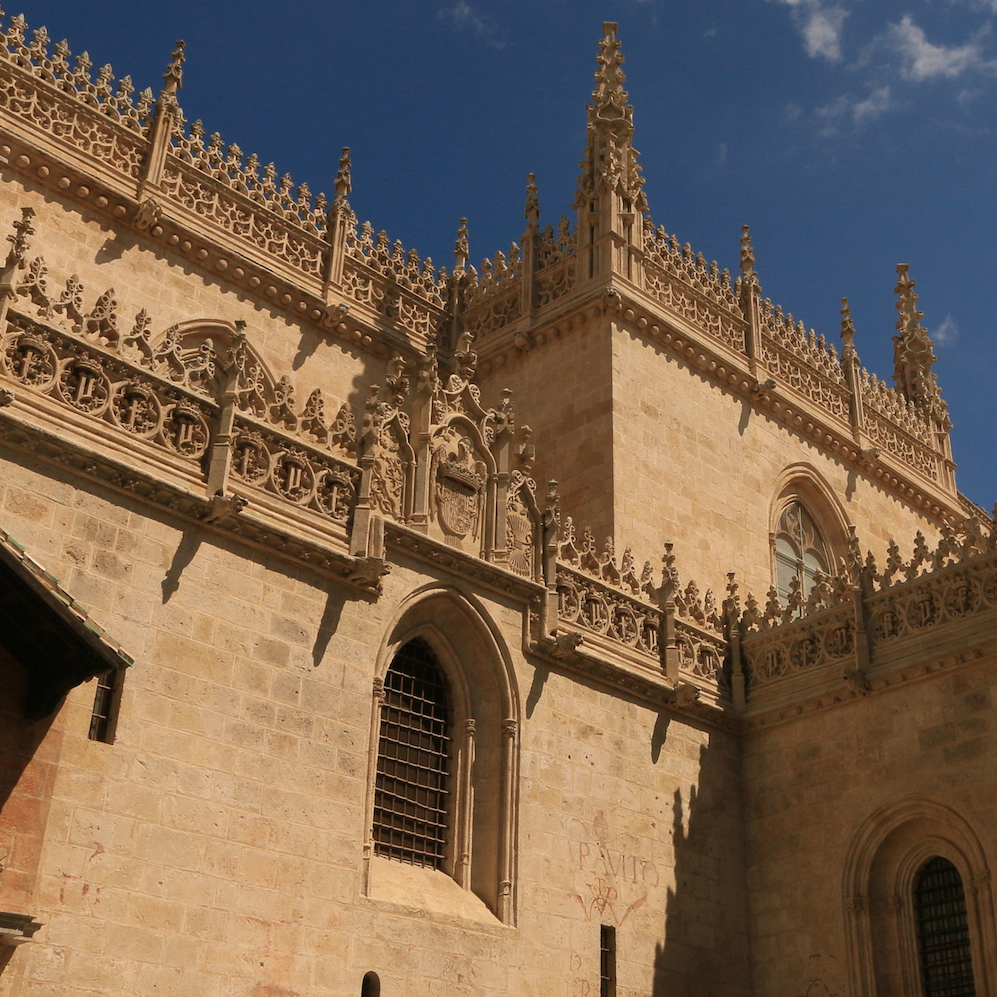arco-apuntado: (366, 584, 524, 723), (846, 794, 987, 905), (769, 463, 855, 561)
pinaculo-gotico: (572, 10, 647, 208), (887, 256, 945, 407)
